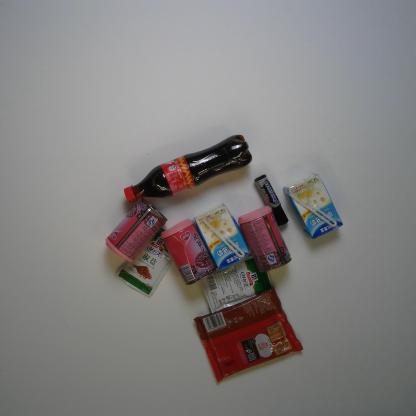Canned Food: (104, 198, 170, 264), (237, 204, 293, 274), (160, 218, 217, 286)
Dessert: (193, 286, 304, 383)
Drink: (123, 134, 253, 205)
Milk: (282, 171, 344, 241), (192, 202, 251, 272)
Seasoner: (199, 252, 275, 315), (114, 226, 174, 298)
Stationery: (253, 172, 290, 228)
